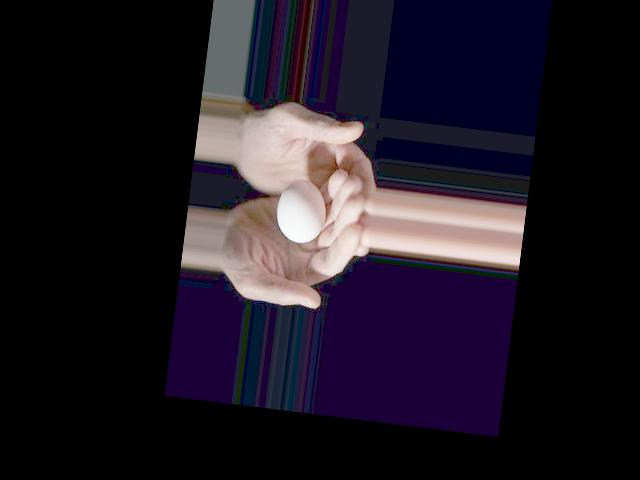egg: (273, 177, 329, 246)
